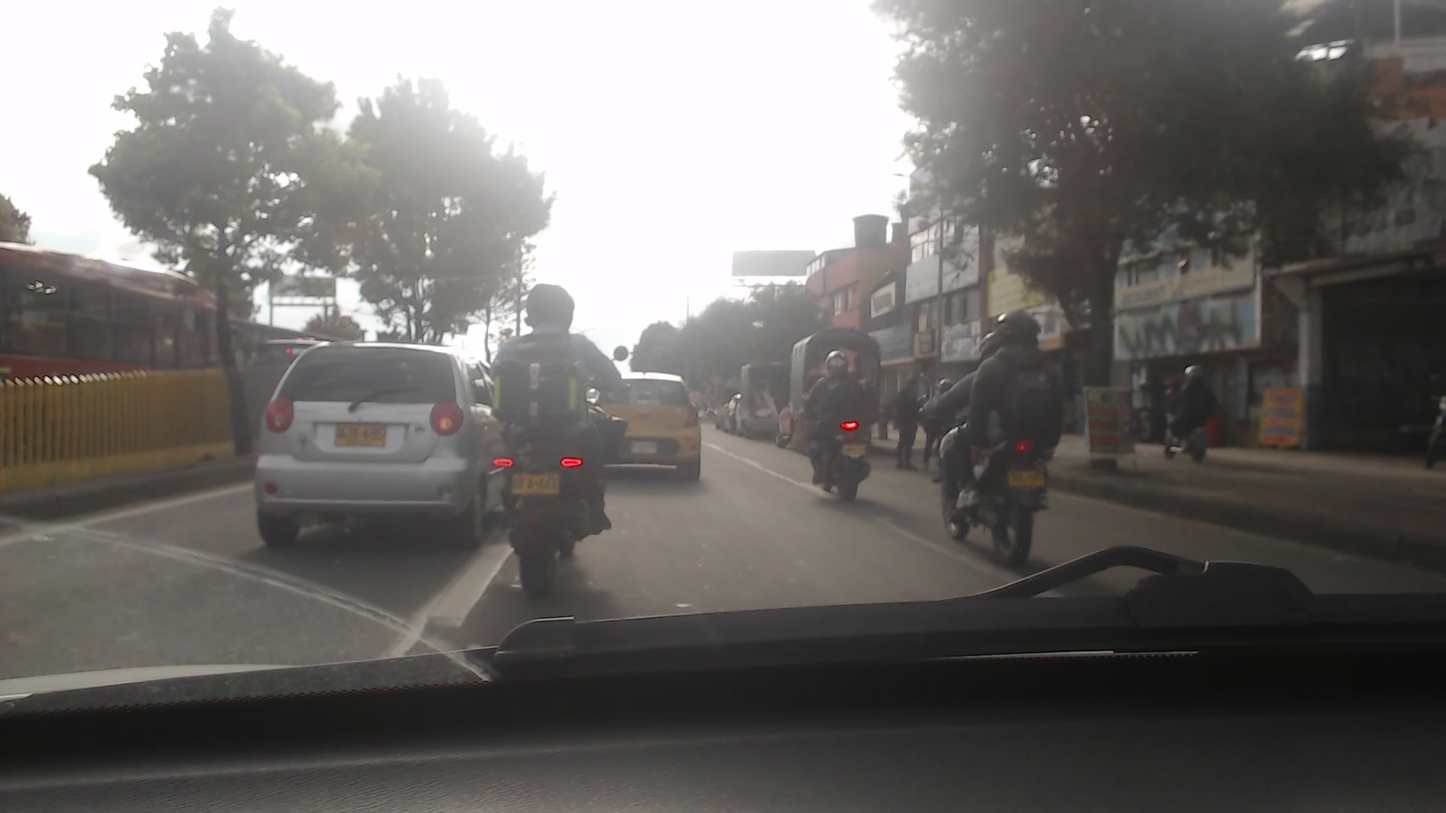car: (244, 341, 502, 550), (594, 371, 699, 479)
motorcycle: (923, 384, 1044, 573), (795, 423, 878, 501)
person: (502, 283, 623, 542), (958, 304, 1056, 496), (807, 345, 874, 477)
